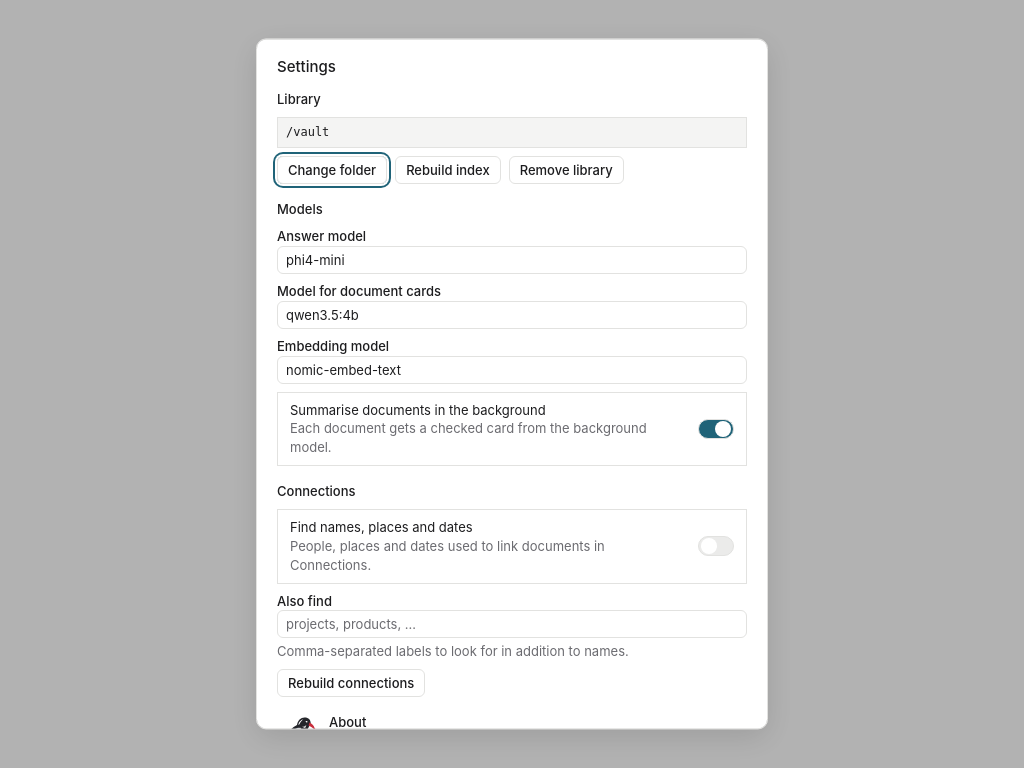
Test: SettingsSheet › shows Change folder confirmation with document count; Cancel leaves settings unchanged
Expected: the text "/vault" is shown, [277,117,747,149]
Click the button "Change folder" at (332, 171), box [277,157,387,185]
(page scrolled)
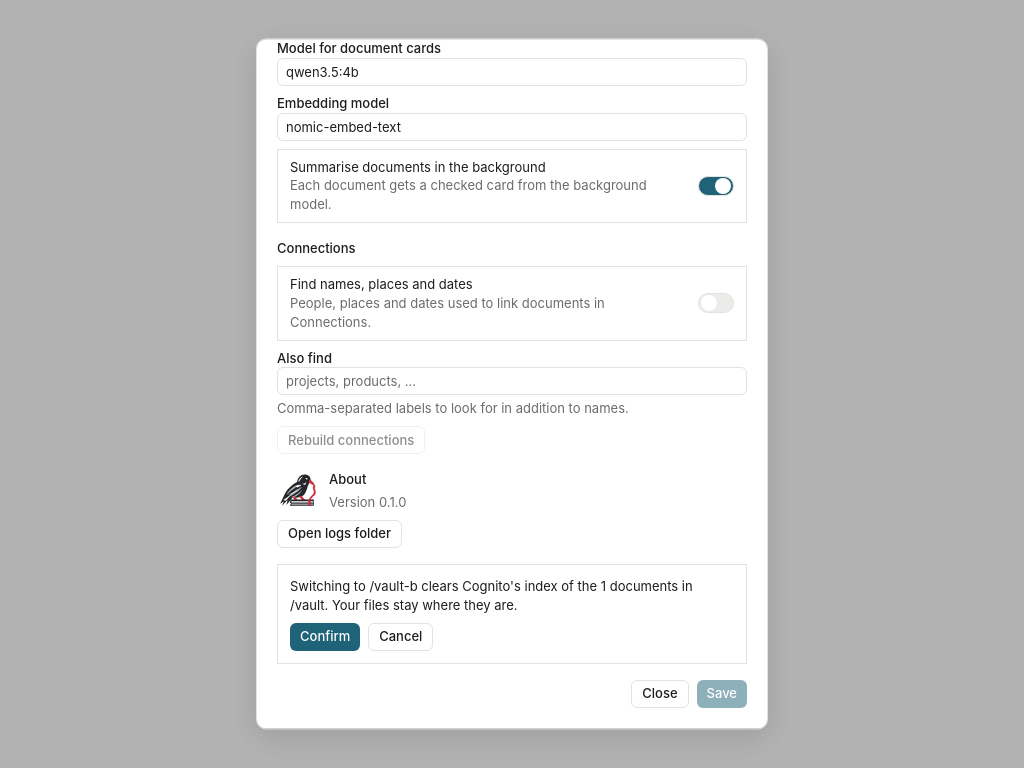
Now the text "Switching to /vault-b clears Cognito's index of the 1 documents in /vault. Your files stay where they are." is shown, box [290,578,693,613]
Click the button "Cancel" at (401, 637), box [368,623,433,651]
(page scrolled)
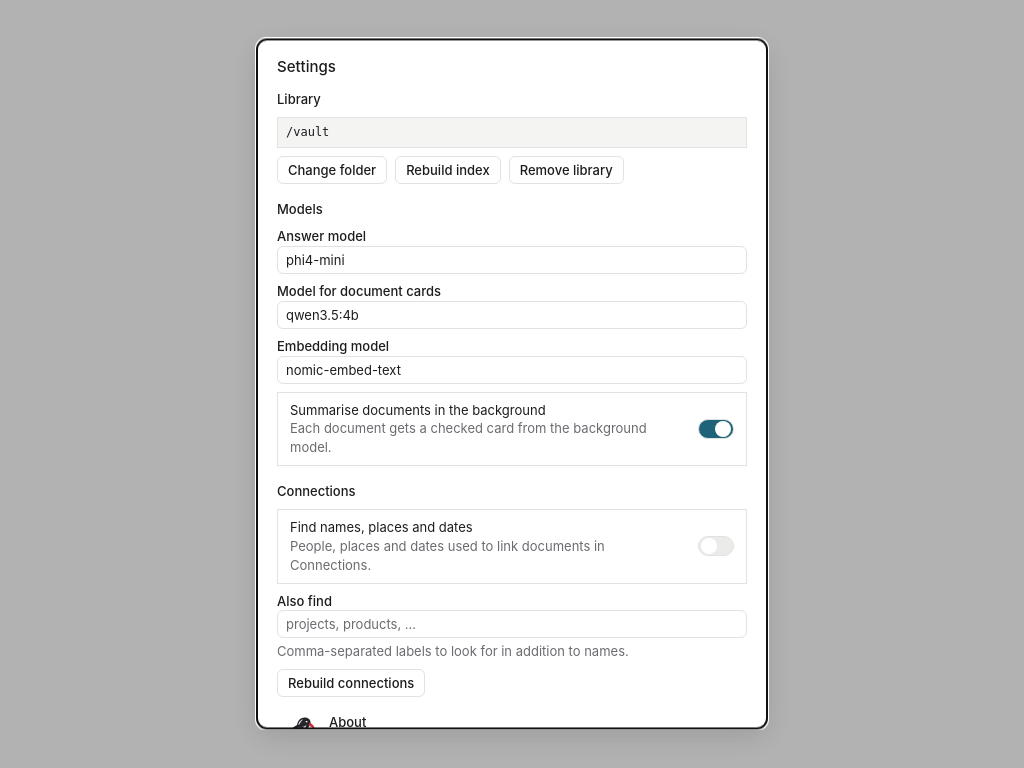
Expected: the text "/vault" is shown, [277,117,747,149]
Now the text "Switching to" is gone
